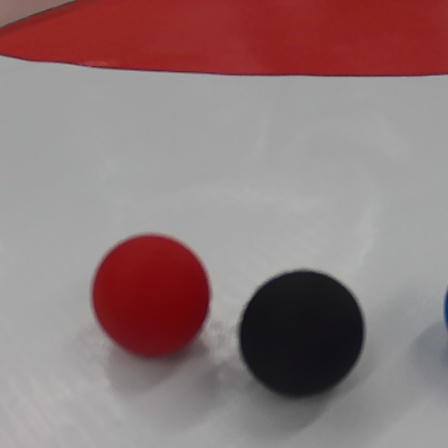black: (239, 264, 367, 396)
red: (89, 232, 212, 358)
red_base: (0, 2, 448, 79)
